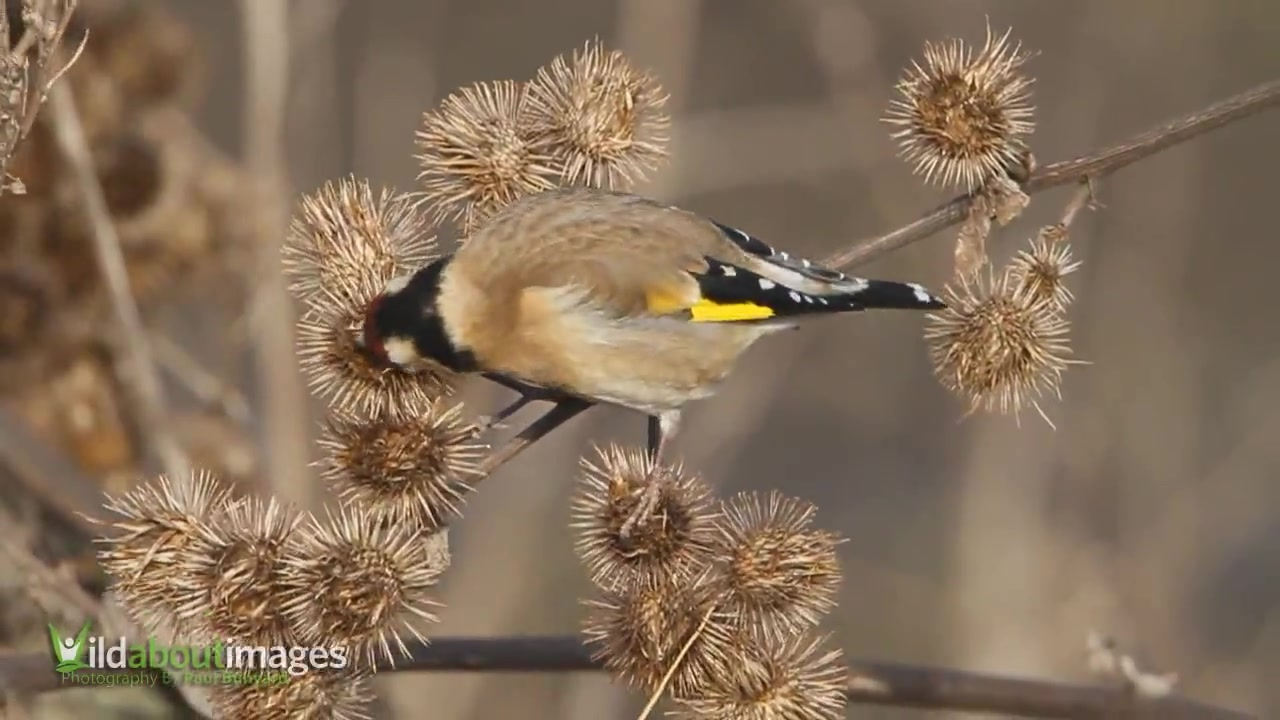bird: (349, 194, 947, 542)
